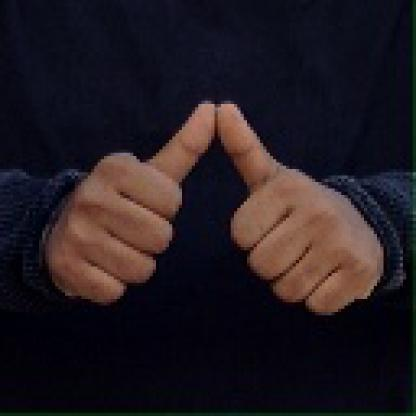A: (38, 96, 399, 318)
